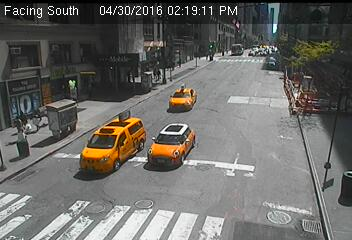neg: (43, 95, 76, 139), (89, 46, 121, 89), (104, 108, 133, 146), (230, 157, 257, 193), (307, 158, 333, 193), (8, 128, 34, 163), (55, 39, 80, 73), (162, 122, 186, 154), (156, 190, 180, 222), (249, 44, 272, 74), (280, 103, 302, 133), (305, 44, 327, 73), (165, 80, 186, 108), (36, 159, 55, 185), (139, 58, 157, 81), (211, 38, 227, 60)
